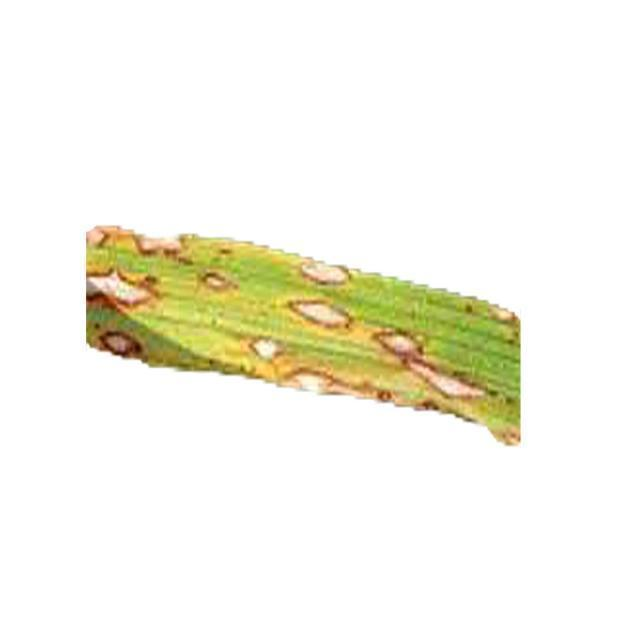Leaf_Blast: (269, 326, 515, 419), (89, 260, 169, 327), (93, 324, 164, 368), (299, 252, 346, 299), (136, 227, 188, 263), (478, 300, 531, 330), (202, 271, 236, 300)
